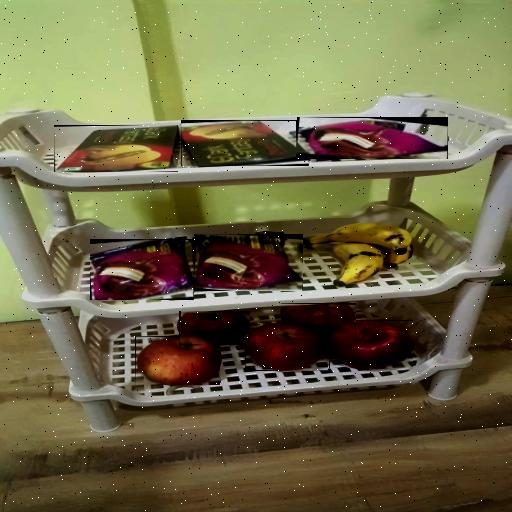Apple: (135, 336, 220, 385), (330, 320, 414, 368), (245, 323, 328, 371), (282, 303, 358, 336), (179, 311, 250, 345)
Choco Fills: (182, 120, 310, 166), (54, 125, 178, 172)
Choco Pie: (90, 239, 194, 300), (297, 117, 448, 159), (194, 234, 303, 291)
